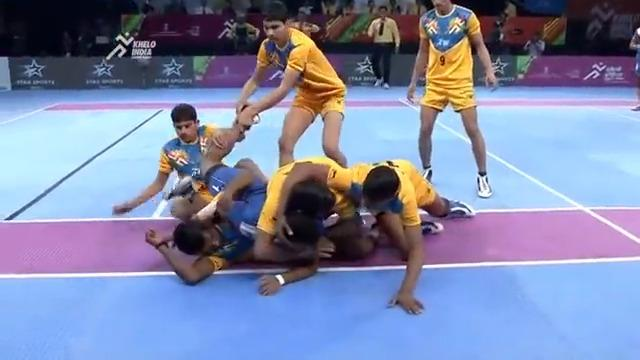Player: (404, 1, 501, 198), (234, 10, 348, 168), (111, 101, 260, 221), (360, 148, 436, 302)
Raider: (234, 159, 344, 277)
referee: (366, 4, 400, 89)
